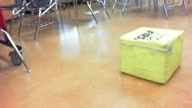cube: (119, 26, 185, 85)
